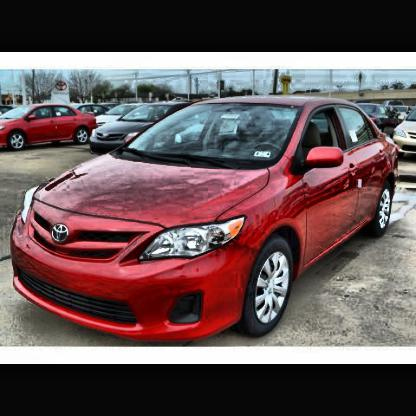Toyota Corolla Sedan 2012: (12, 97, 400, 344)
